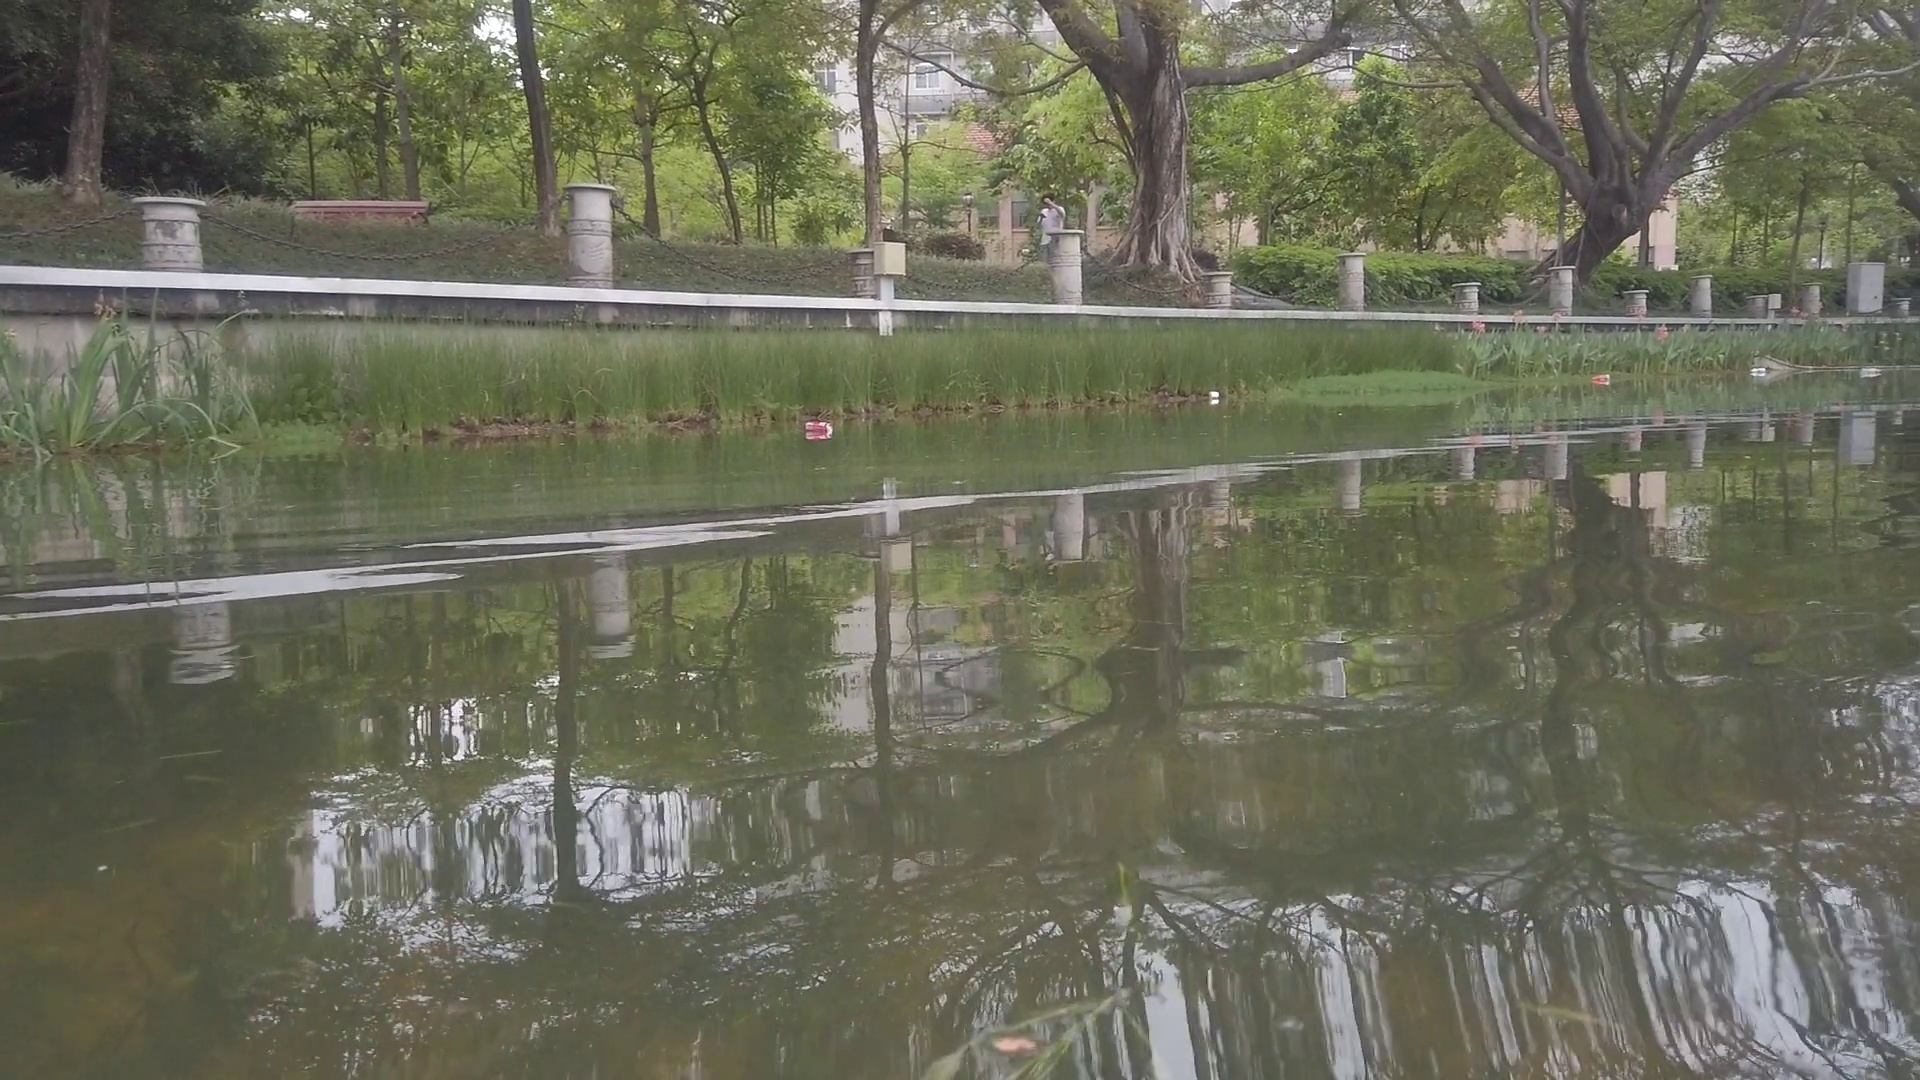bottle: (804, 421, 829, 433), (1753, 367, 1770, 376), (1593, 375, 1611, 382), (1862, 369, 1880, 375)
carton: (1211, 389, 1221, 404)
